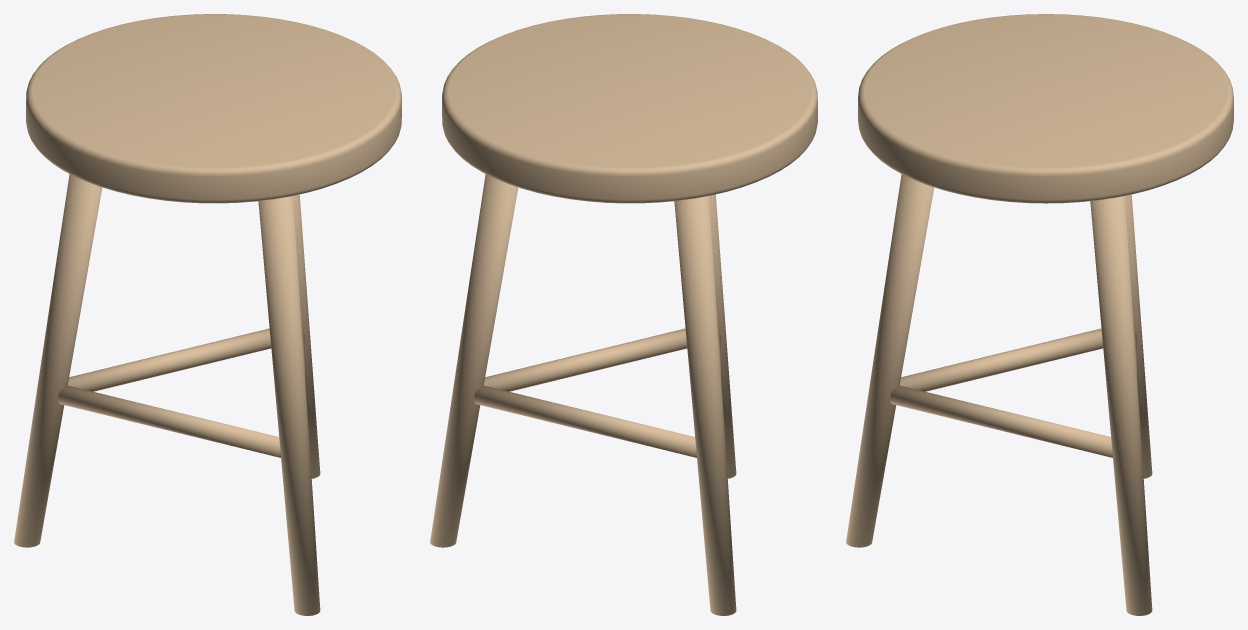
3 views of the same model, side by side, from view 1: azimuth 30°, elevation 25°; view 2: azimuth 150°, elevation 25°; view 3: azimuth 270°, elevation 25° (orthographic).
Visible parts, largest first — view 1: Seat, Leg_0, Leg_2, Stretcher_1, Stretcher_0, Leg_1; view 2: Seat, Leg_2, Leg_1, Stretcher_0, Stretcher_2, Leg_0; view 3: Seat, Leg_1, Leg_0, Stretcher_2, Stretcher_1, Leg_2.
Part boxes in pixels (x1,y1,x2,y2): Seat: (26, 14, 401, 203); Leg_0: (258, 196, 320, 615); Leg_2: (14, 174, 102, 547); Stretcher_1: (58, 385, 280, 457); Stretcher_0: (67, 328, 271, 391); Leg_1: (293, 194, 320, 478); Seat: (442, 14, 817, 203); Leg_2: (674, 196, 736, 615); Leg_1: (430, 174, 518, 547); Stretcher_0: (474, 385, 696, 457); Stretcher_2: (483, 328, 687, 391); Leg_0: (709, 194, 736, 478); Seat: (858, 14, 1233, 203); Leg_1: (1090, 196, 1152, 615); Leg_0: (846, 174, 934, 547); Stretcher_2: (890, 385, 1112, 457); Stretcher_1: (899, 328, 1103, 391); Leg_2: (1125, 194, 1152, 478).
Size of the model in its own units: 0.34 by 0.45 by 0.3508.
